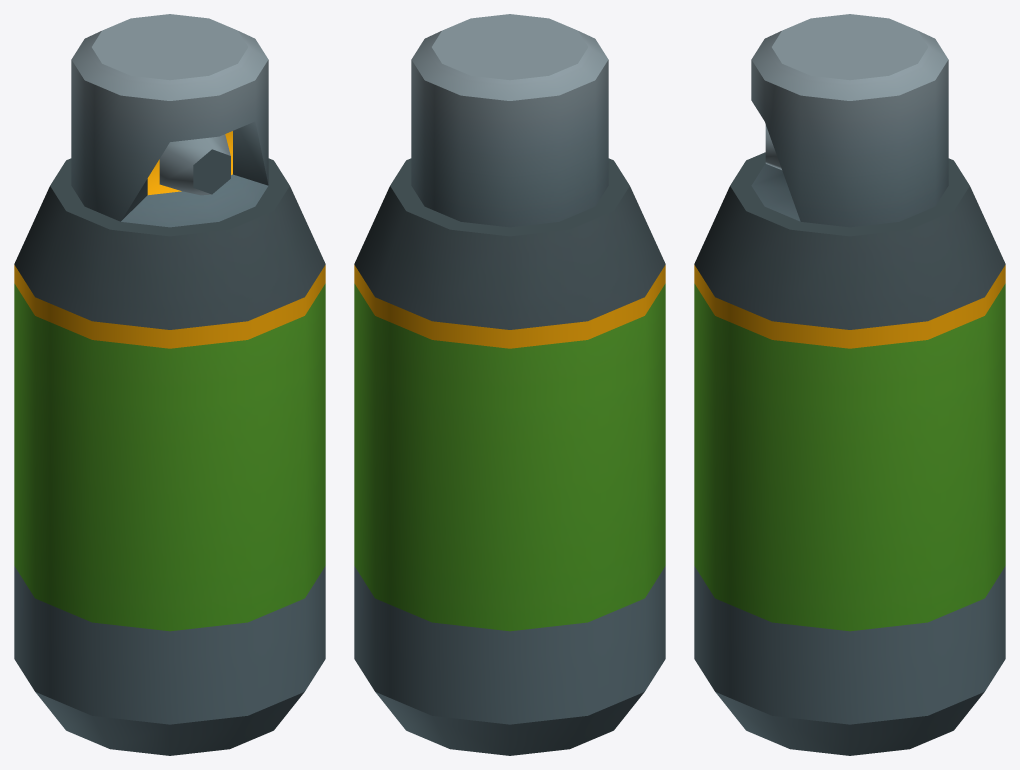
The model's file is Baloon_010.fbx.
The picture shows the model from 3 angles, left to right: view 1: azimuth 30°, elevation 25°; view 2: azimuth 150°, elevation 25°; view 3: azimuth 270°, elevation 25°; orthographic projection.
Visible parts, largest first — view 1: Baloon_010; view 2: Baloon_010; view 3: Baloon_010.
Part boxes in pixels (box(x1,y1,x2,y2)): Baloon_010: box(14, 14, 325, 755); Baloon_010: box(354, 14, 665, 755); Baloon_010: box(694, 14, 1005, 755).
Size of the model in its own units: 49.36 by 49.36 by 115.
